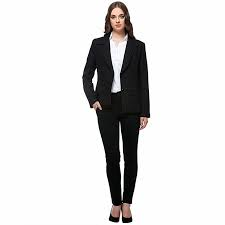F_W_suit jacket: (77, 34, 161, 106)
F_shirt: (107, 33, 129, 91)
S_W_pants: (91, 105, 147, 211)
